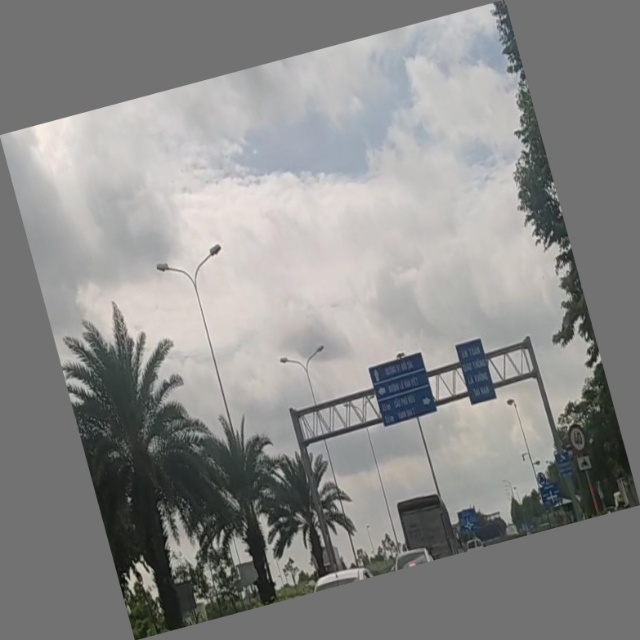P.127*40: (565, 421, 590, 455)
S.505a*Xe may: (574, 452, 593, 474)
